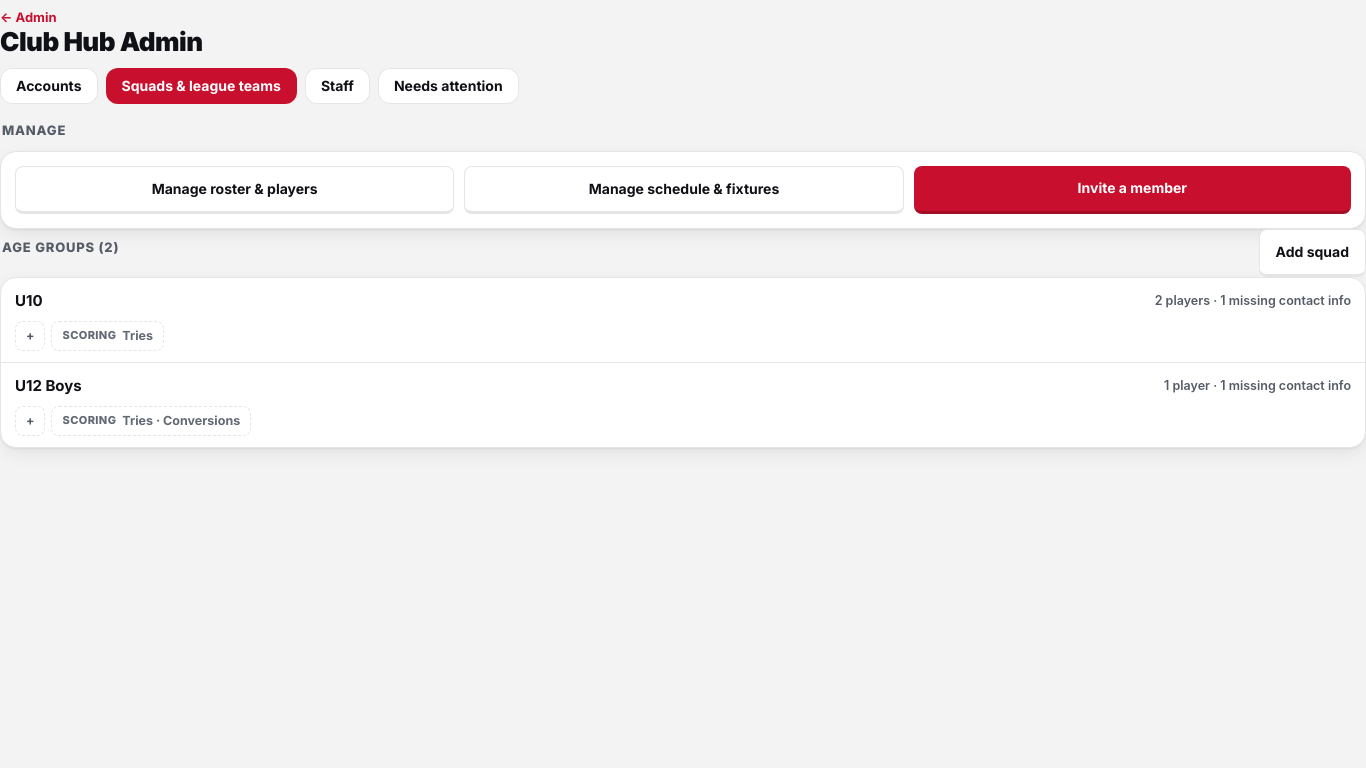
it: AdminClub — the Club tab › opens the invite form in a sheet
The width and height of the screenshot is (1366, 768).
Expected: the element with test id "team-row-team-u10" is shown, [1,278,1365,363]
Step 1. Click the button "Invite a member" → click(1132, 190), box [914,166,1351,214]
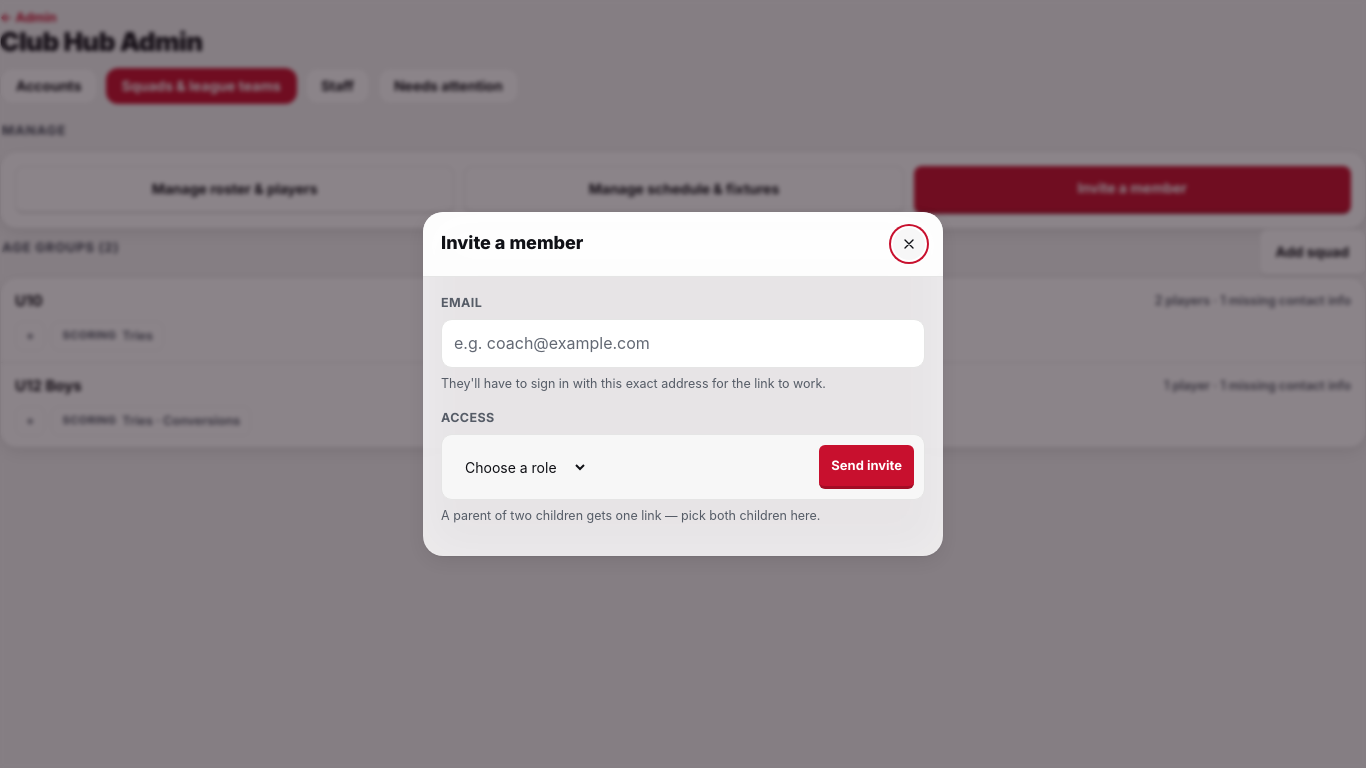
Expected: the heading "Invite a member" is shown, [441,229,583,258]
